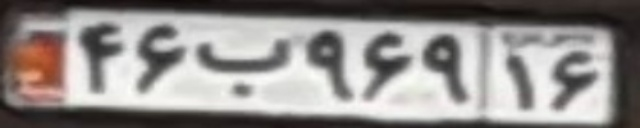1: (502, 53, 539, 109)
4: (76, 21, 126, 93)
6: (129, 24, 191, 92), (359, 33, 413, 100), (547, 47, 602, 109)
9: (417, 33, 471, 102), (302, 29, 353, 101)
be: (195, 36, 292, 96)
